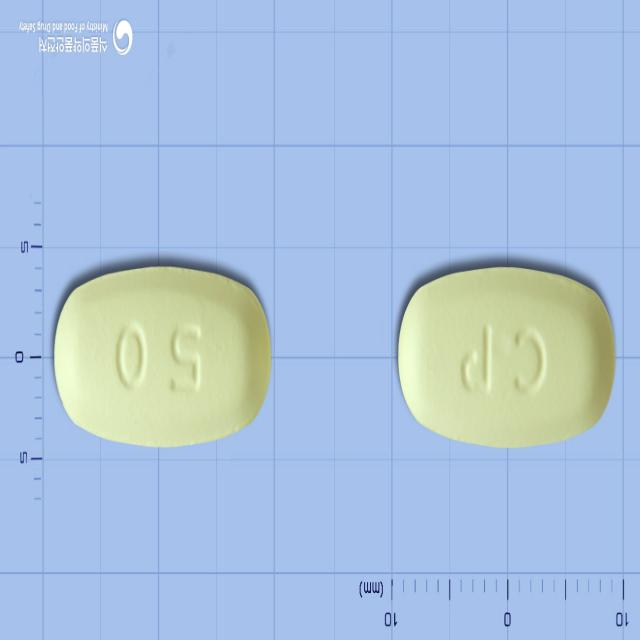Cefick Cap: (397, 265, 615, 450), (53, 268, 270, 448)
